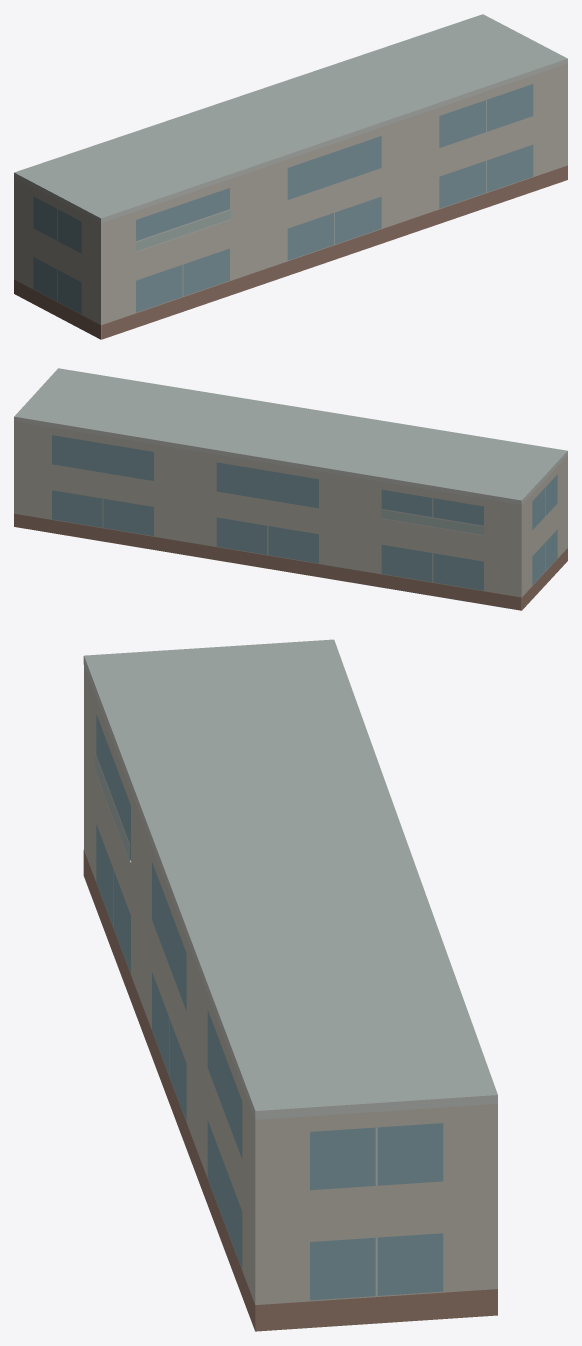
File: survey-upis-32994463.glb
The picture shows the model from 3 angles, top to bottom: view 1: azimuth 30°, elevation 25°; view 2: azimuth 150°, elevation 25°; view 3: azimuth 270°, elevation 25°; orthographic projection. The views are drawn at different scales.
Visible parts, largest first — view 1: survey-upis-32994463.tmp; view 2: survey-upis-32994463.tmp; view 3: survey-upis-32994463.tmp.
Boxes of the visible parts, box(x1,y1,x2,y2) form: survey-upis-32994463.tmp: box(14, 14, 567, 339); survey-upis-32994463.tmp: box(14, 368, 567, 610); survey-upis-32994463.tmp: box(83, 639, 497, 1331).
Bounding box in the file's own units: 28.01 × 6.1 × 10.4.
